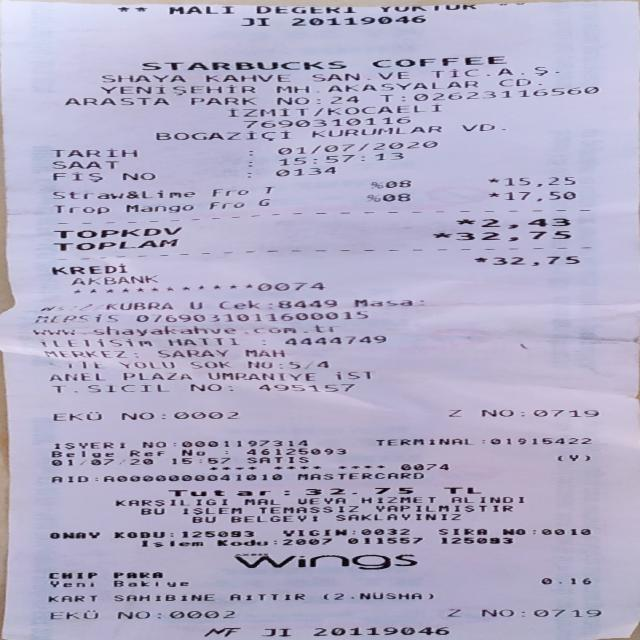text: (31, 324, 351, 336), (412, 86, 602, 102), (232, 553, 416, 569), (274, 141, 440, 155), (133, 312, 367, 321), (140, 60, 347, 70), (235, 116, 413, 127), (97, 84, 258, 96), (328, 80, 482, 92), (303, 126, 443, 138), (278, 152, 407, 165), (55, 226, 182, 239), (50, 239, 179, 251), (311, 626, 448, 636), (368, 57, 504, 67), (429, 67, 558, 77), (152, 131, 293, 140), (287, 15, 424, 24), (324, 104, 443, 114), (206, 370, 314, 381), (334, 513, 459, 522), (373, 504, 512, 512), (39, 337, 150, 347), (102, 474, 284, 480), (48, 384, 168, 393), (258, 382, 353, 393), (454, 231, 570, 240), (282, 334, 385, 344), (178, 439, 306, 447), (68, 275, 161, 286), (254, 4, 352, 14), (490, 255, 578, 266), (490, 436, 593, 445), (478, 218, 570, 228), (304, 487, 418, 495), (244, 447, 345, 456), (257, 505, 358, 514), (112, 593, 213, 602), (373, 437, 472, 446), (295, 472, 422, 479), (202, 72, 290, 82), (502, 190, 573, 202), (225, 106, 309, 116), (31, 314, 115, 324), (50, 458, 154, 466), (101, 74, 184, 84), (173, 488, 276, 496), (120, 201, 194, 212), (63, 97, 164, 105), (171, 408, 237, 420), (113, 498, 225, 505), (49, 148, 134, 157), (122, 371, 191, 382), (231, 515, 322, 523), (502, 176, 574, 186), (155, 348, 227, 358), (43, 349, 122, 358), (46, 370, 104, 382), (332, 592, 419, 600), (345, 536, 422, 545), (103, 301, 171, 311), (166, 336, 240, 345), (134, 188, 194, 199), (167, 609, 233, 619), (50, 203, 109, 214), (253, 282, 325, 291), (180, 529, 252, 538), (168, 5, 232, 15), (532, 408, 596, 418), (48, 265, 127, 273), (51, 409, 99, 422), (275, 298, 337, 308), (48, 192, 124, 200), (49, 160, 116, 169), (111, 580, 186, 588), (378, 6, 478, 12), (352, 298, 411, 308), (50, 449, 115, 458), (438, 536, 511, 544), (187, 96, 251, 105), (227, 593, 305, 600), (358, 496, 435, 503), (534, 608, 601, 616), (181, 506, 248, 514), (43, 360, 101, 369), (287, 528, 345, 537), (140, 539, 204, 547), (450, 495, 523, 502), (51, 172, 102, 182), (208, 186, 249, 198), (204, 198, 245, 210), (122, 360, 176, 369), (312, 70, 360, 80), (459, 121, 499, 133), (48, 609, 96, 619), (48, 442, 127, 448), (270, 82, 309, 94), (47, 530, 99, 539), (378, 68, 416, 80), (396, 463, 453, 471), (280, 537, 330, 546), (331, 370, 376, 380), (495, 76, 532, 88), (245, 456, 308, 463), (111, 570, 160, 579), (438, 527, 486, 536), (541, 528, 594, 536), (216, 300, 258, 310), (242, 348, 284, 358), (111, 530, 163, 538), (170, 457, 229, 464), (215, 538, 266, 546), (295, 496, 345, 504), (46, 594, 96, 602), (200, 627, 240, 637), (363, 528, 412, 536), (120, 409, 152, 421), (47, 571, 95, 579), (130, 448, 168, 458), (286, 360, 332, 368), (238, 16, 270, 27), (190, 382, 222, 393), (48, 580, 92, 588), (119, 171, 153, 181), (270, 96, 312, 104), (190, 360, 227, 369), (541, 577, 588, 584), (386, 180, 416, 190), (481, 408, 511, 418), (116, 609, 146, 619), (241, 497, 278, 505), (259, 627, 288, 637), (51, 474, 87, 482), (443, 486, 479, 494), (328, 94, 359, 103), (481, 608, 514, 616), (382, 193, 411, 202), (550, 455, 592, 461), (190, 514, 215, 524), (454, 218, 476, 229), (254, 197, 272, 210), (178, 448, 204, 457), (501, 526, 524, 536), (140, 439, 164, 448), (138, 506, 162, 515), (430, 231, 451, 241), (247, 360, 270, 369), (362, 68, 379, 80), (271, 170, 339, 173), (493, 119, 506, 133), (130, 187, 142, 200), (310, 104, 322, 116), (366, 181, 384, 189), (447, 607, 460, 618), (188, 300, 202, 310), (487, 190, 498, 202), (311, 95, 325, 104), (378, 93, 392, 102), (398, 92, 412, 101), (467, 256, 488, 262), (41, 305, 62, 311), (364, 194, 379, 202), (486, 176, 497, 186), (417, 297, 428, 307), (448, 408, 458, 418), (283, 487, 294, 496), (244, 148, 256, 156), (447, 608, 459, 616), (262, 184, 272, 193), (84, 301, 92, 312), (311, 88, 328, 93), (242, 171, 254, 178), (276, 360, 285, 369), (90, 474, 100, 482), (538, 75, 544, 88), (272, 537, 280, 546), (129, 348, 136, 358), (159, 408, 164, 421), (259, 338, 267, 346), (266, 299, 272, 309), (244, 161, 254, 167), (171, 439, 176, 449), (222, 447, 227, 457), (321, 591, 326, 601), (169, 529, 173, 539), (155, 609, 159, 619), (426, 591, 430, 600), (520, 408, 522, 418), (532, 526, 534, 536), (522, 609, 524, 616)
